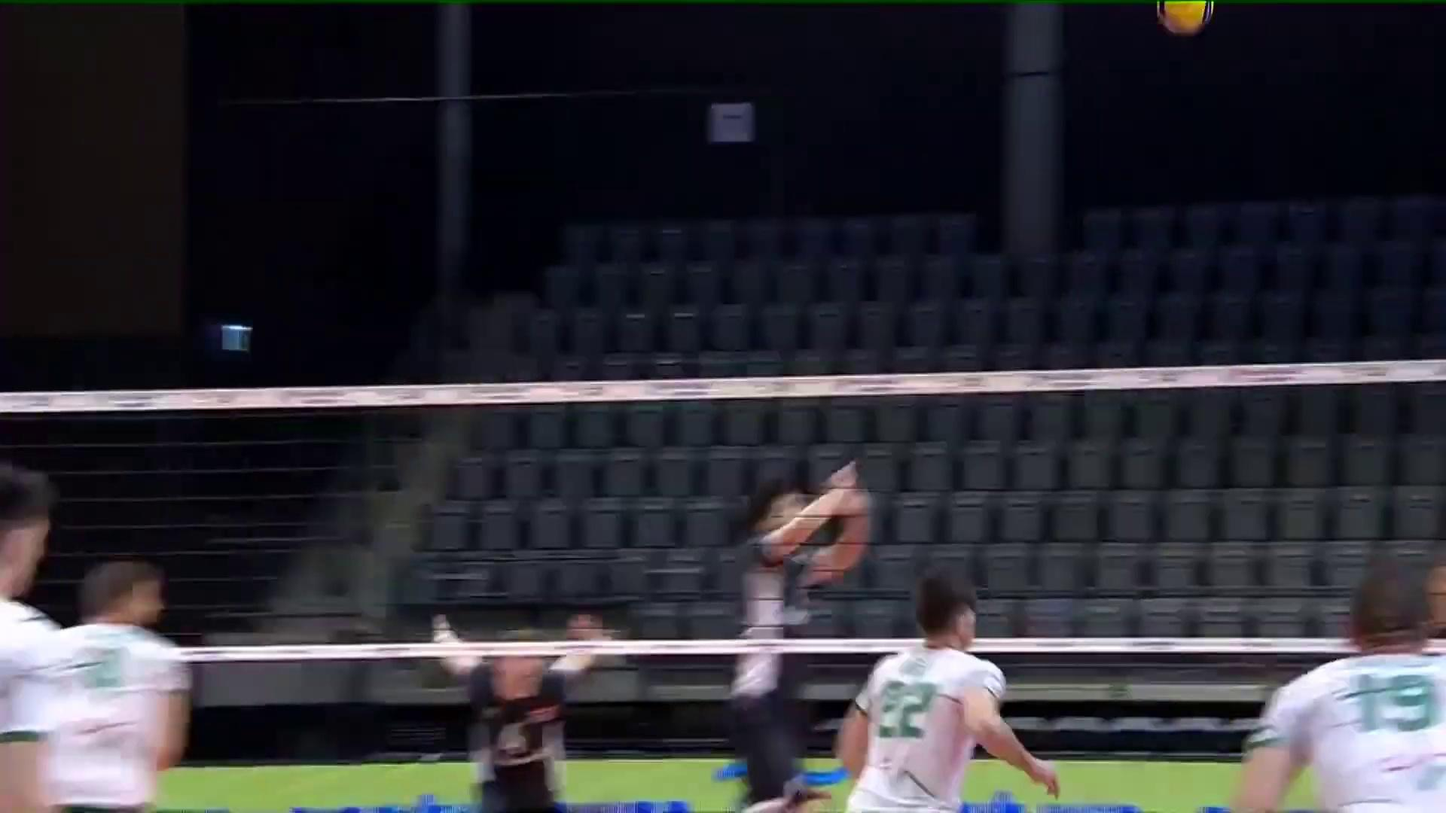ball: (1158, 0, 1211, 37)
